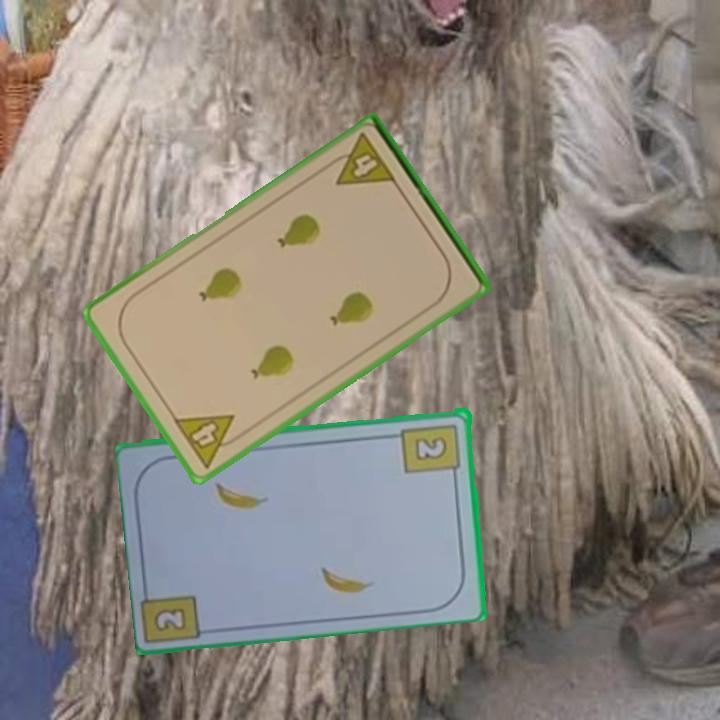2b: (399, 420, 464, 481), (154, 607, 186, 631)
4p: (169, 411, 249, 471), (322, 129, 399, 190)
